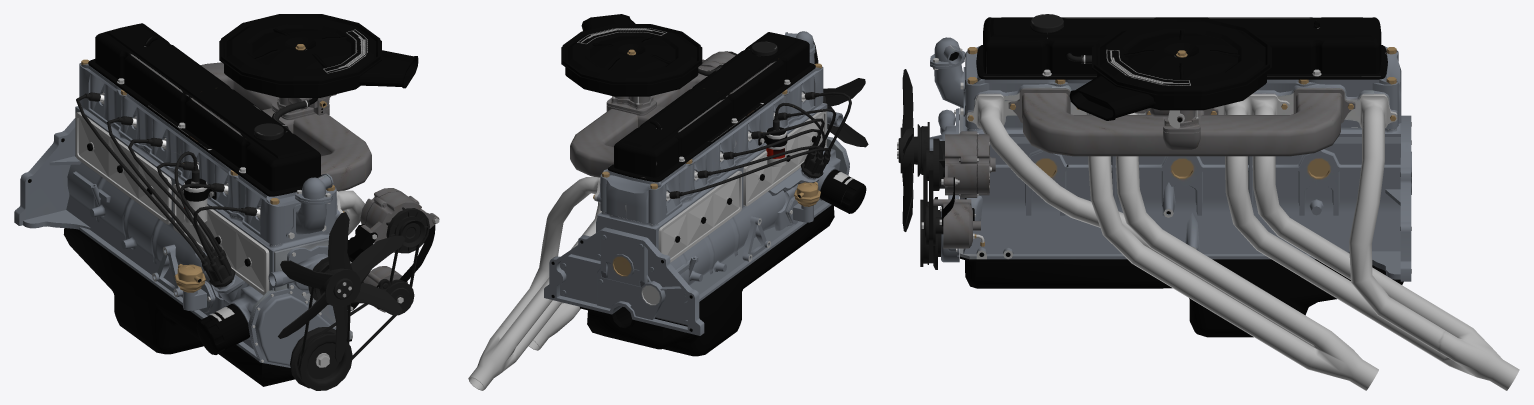
File: tcc-fundamentos_BASE.glb
3 views of the same model, side by side, from view 1: azimuth 30°, elevation 25°; view 2: azimuth 150°, elevation 25°; view 3: azimuth 270°, elevation 25° (orthographic). The views are drawn at different scales.
Visible parts, largest first — view 1: motor; view 2: motor; view 3: motor.
Boxes of the visible parts, x1=… form: motor: x1=14, y1=14, x2=439, y2=390; motor: x1=468, y1=14, x2=868, y2=390; motor: x1=897, y1=14, x2=1519, y2=390.
Size of what is drawn, in the model's own units: 0.5376 by 0.5559 by 0.9679.
Materials: 7 (7 with a texture image).
